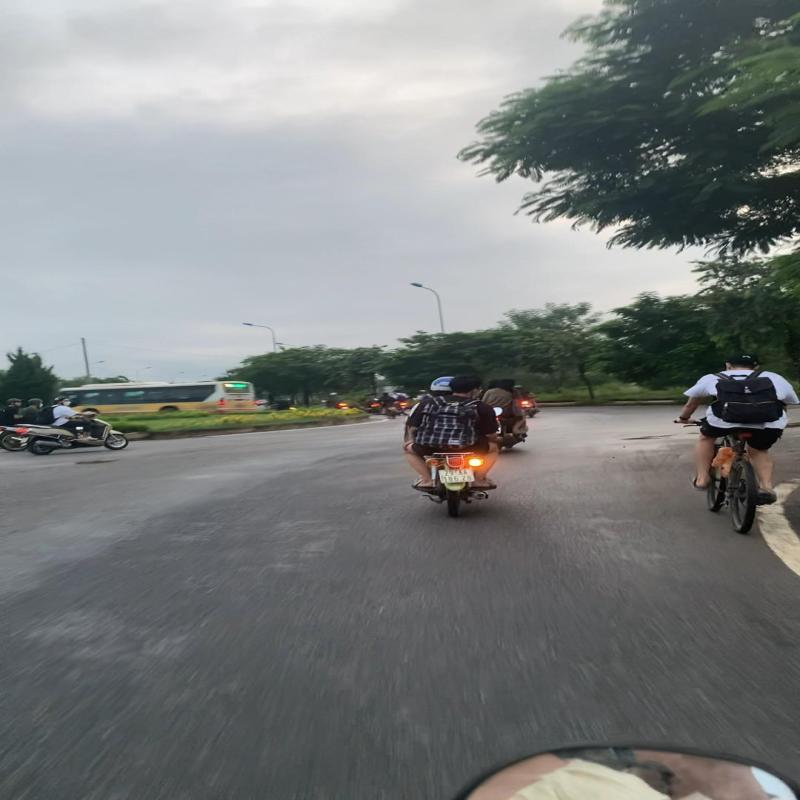helmet: (428, 374, 456, 394)
licenseplate: (436, 467, 476, 484)
motorcyclist: (398, 372, 509, 520)
nohelmet: (448, 374, 484, 396)
